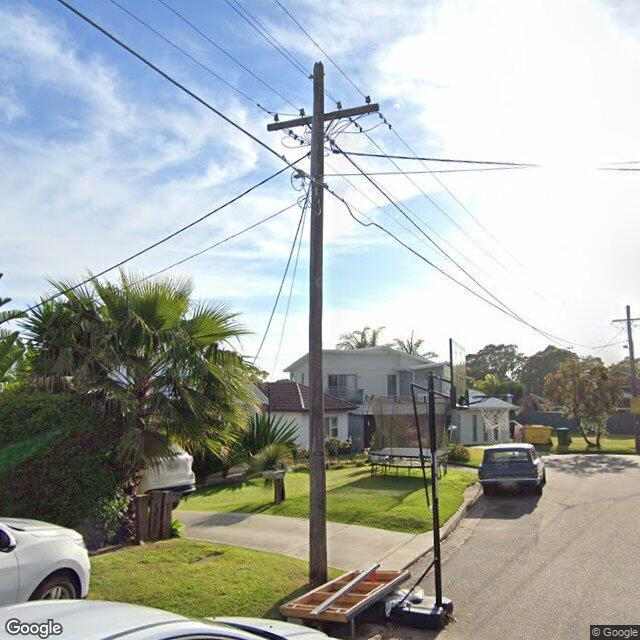crossarm: (266, 102, 381, 133), (612, 316, 640, 322)
timber-pole: (310, 61, 328, 587), (625, 305, 640, 452)
